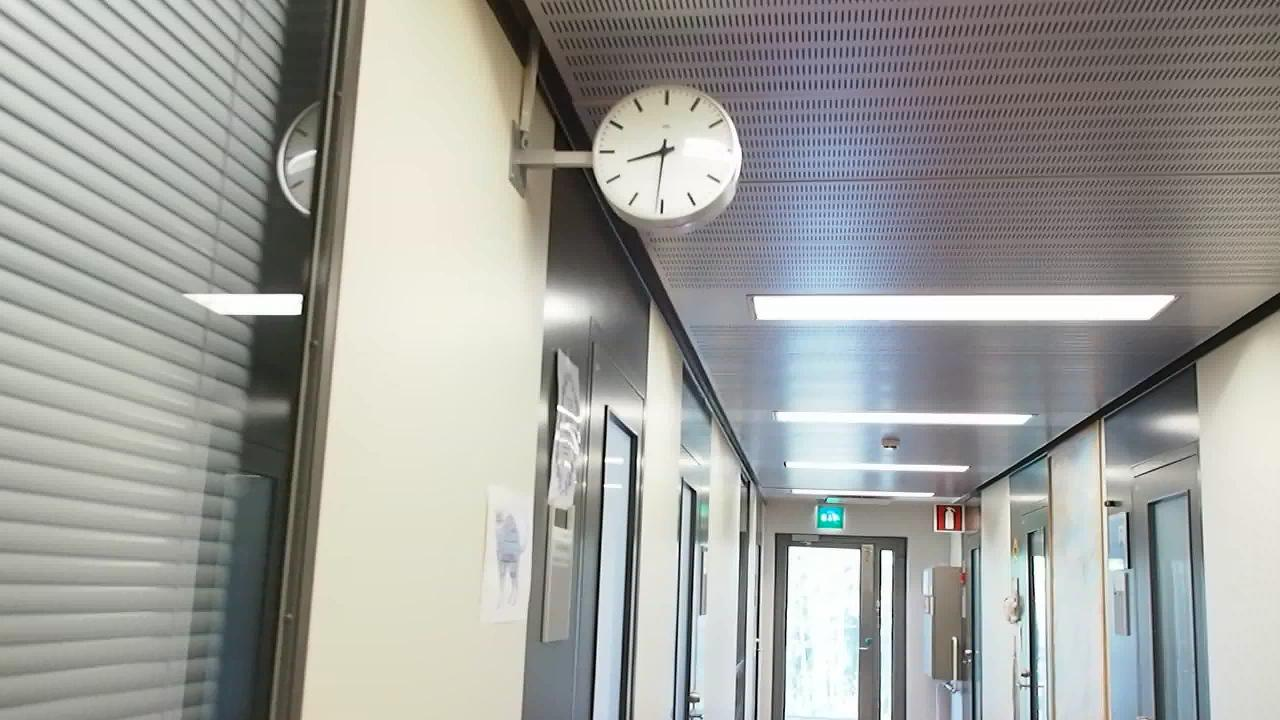clock: (586, 75, 750, 235)
